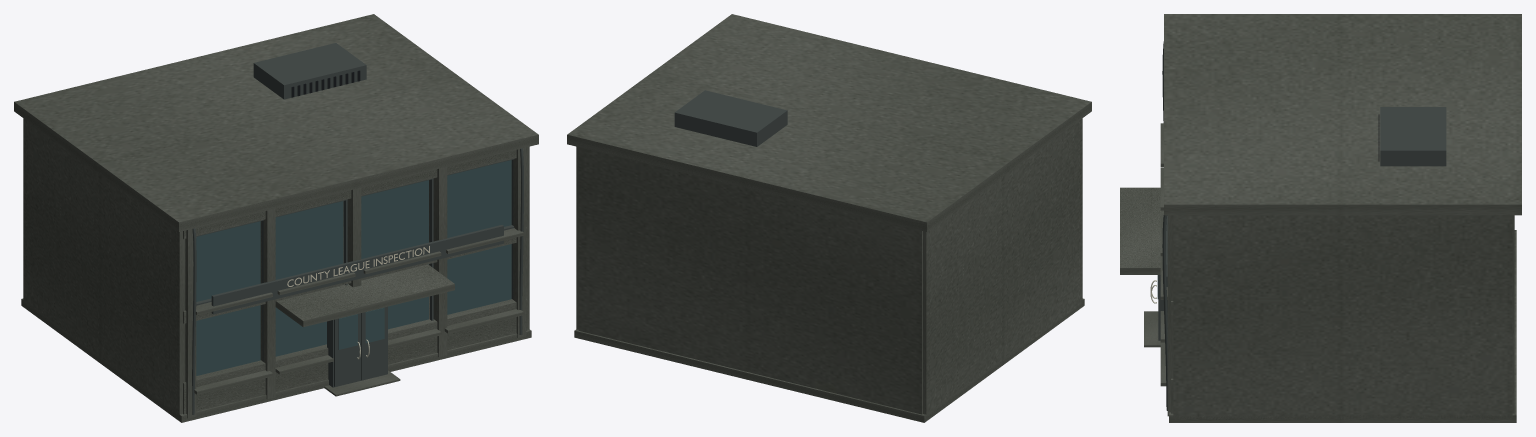
File: league-inspection-office.glb
3 renders of one model, left to right at view 1: azimuth 30°, elevation 25°; view 2: azimuth 150°, elevation 25°; view 3: azimuth 270°, elevation 25°, orthographic. The views are drawn at different scales.
Visible parts, largest first — view 1: Flat roof slab, Gable concrete wall, Front concrete spandrel, Rain canopy, Official fascia, Recessed office glazing.003, Recessed office glazing.005, Recessed office glazing.001, Recessed office glazing.007, Roof plant casing, Recessed office glazing, Concrete foundation (+23 smaller); view 2: Rear wall, Flat roof slab, Gable concrete wall, Roof plant casing, Concrete foundation, Gable concrete wall.001; view 3: Gable concrete wall.001, Flat roof slab, Roof plant casing, Rain canopy, Concrete foundation, Vertical precast mullion.004, Rainwater downpipe.001, Rear wall, Threshold.
Part boxes in pixels (bbox=[...]): Flat roof slab: bbox=[14, 14, 538, 231]; Gable concrete wall: bbox=[23, 118, 185, 417]; Front concrete spandrel: bbox=[183, 299, 527, 414]; Rain canopy: bbox=[275, 264, 454, 327]; Official fascia: bbox=[211, 225, 503, 314]; Recessed office glazing.003: bbox=[275, 201, 343, 279]; Recessed office glazing.005: bbox=[361, 180, 428, 258]; Recessed office glazing.001: bbox=[196, 221, 260, 301]; Recessed office glazing.007: bbox=[447, 160, 511, 237]; Roof plant casing: bbox=[253, 43, 366, 99]; Recessed office glazing: bbox=[196, 305, 260, 375]; Concrete foundation: bbox=[21, 227, 531, 422]; Rear wall: bbox=[578, 147, 922, 414]; Flat roof slab: bbox=[567, 14, 1091, 231]; Gable concrete wall: bbox=[923, 118, 1082, 414]; Roof plant casing: bbox=[674, 90, 787, 146]; Concrete foundation: bbox=[574, 298, 1084, 422]; Gable concrete wall.001: bbox=[576, 146, 578, 329]; Gable concrete wall.001: bbox=[1173, 215, 1512, 419]; Flat roof slab: bbox=[1164, 14, 1521, 215]; Roof plant casing: bbox=[1380, 107, 1446, 166]; Rain canopy: bbox=[1120, 187, 1163, 274]; Concrete foundation: bbox=[1169, 230, 1516, 422]; Vertical precast mullion.004: bbox=[1167, 215, 1173, 416]; Rainwater downpipe.001: bbox=[1162, 215, 1167, 410]; Rear wall: bbox=[1512, 215, 1514, 413]; Threshold: bbox=[1144, 311, 1160, 347].
Bounding box in the file's own units: 10.9 × 6.3 × 9.71.
6 materials, 1 textured.
